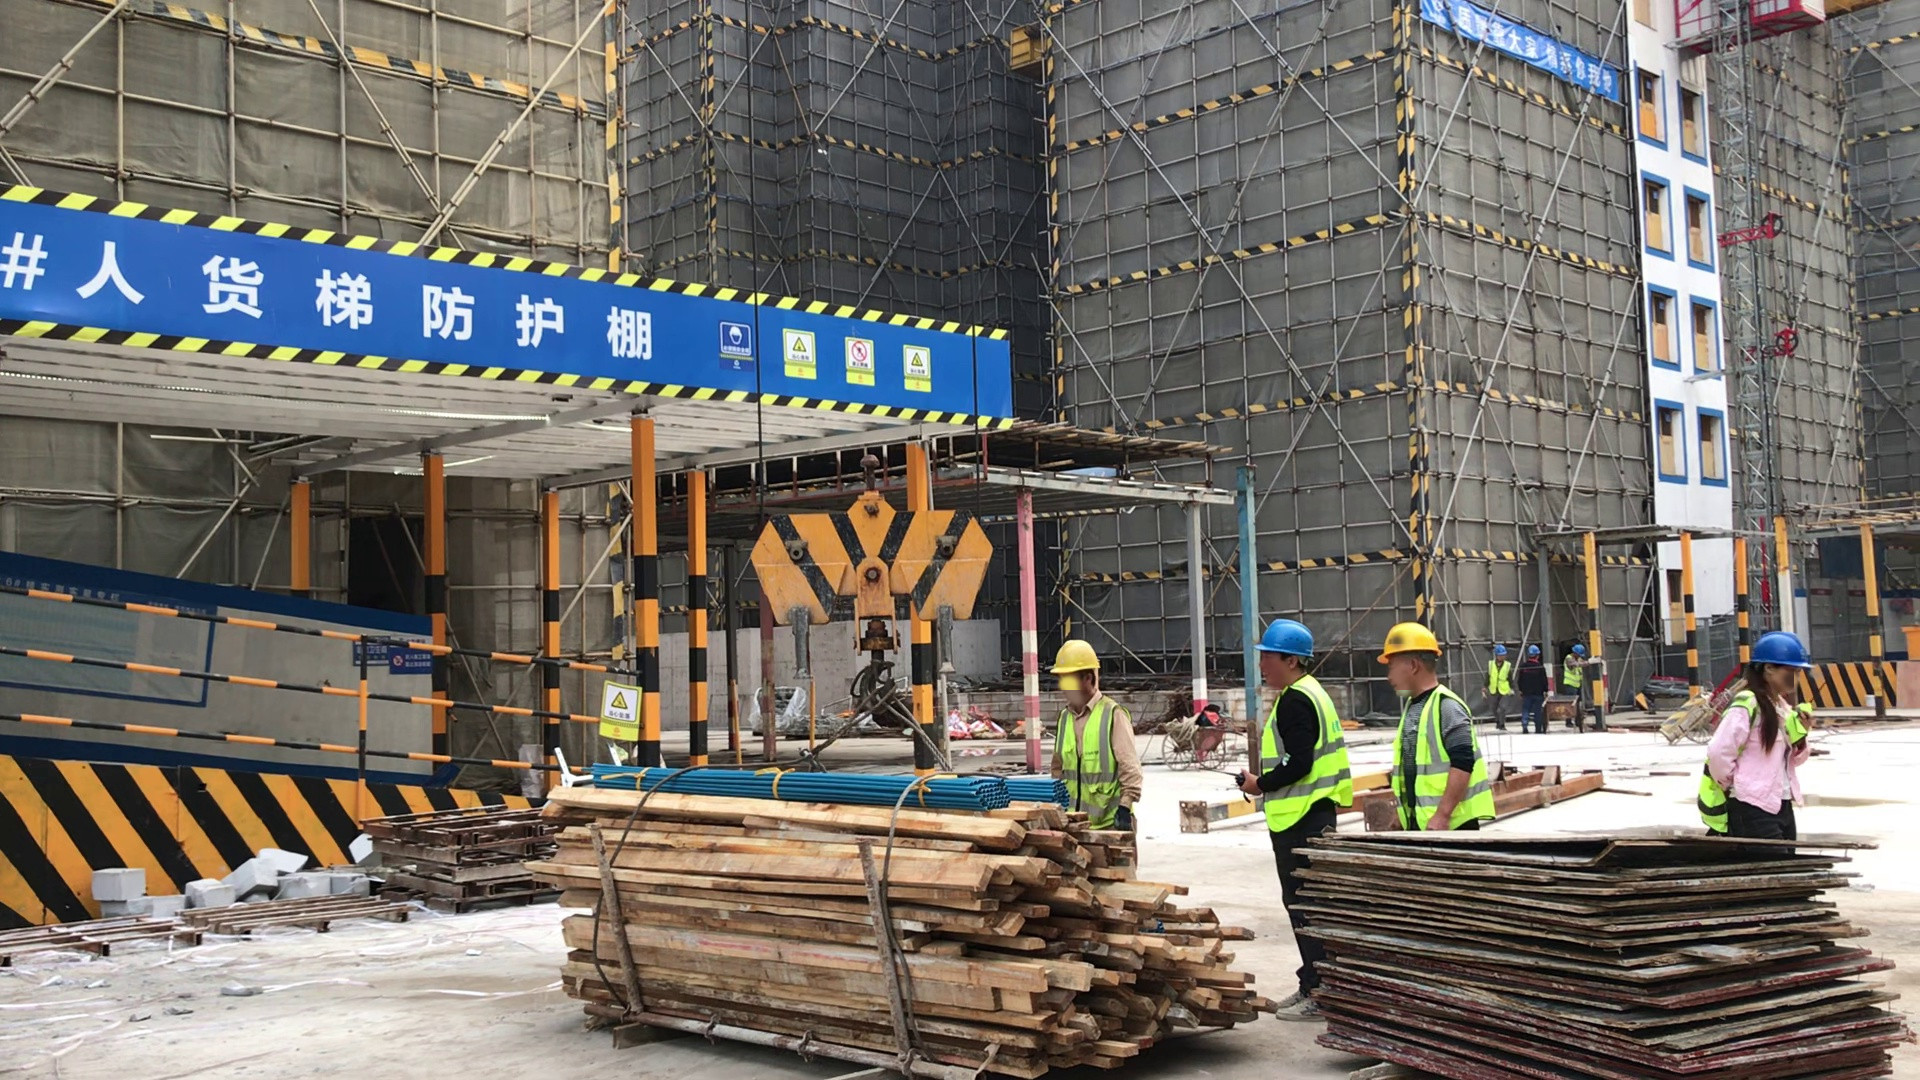board: (1304, 820, 1897, 1080)
handcart: (1663, 667, 1748, 745)
helmet: (1748, 628, 1810, 671), (1253, 619, 1315, 660), (1375, 622, 1444, 657), (1050, 640, 1101, 674), (1568, 644, 1585, 658), (1494, 644, 1506, 656), (1526, 645, 1539, 656)
hook: (751, 489, 994, 627)
person: (1238, 618, 1357, 1021), (1367, 617, 1501, 843), (1694, 630, 1817, 835), (1043, 632, 1147, 848), (1514, 644, 1550, 737), (1480, 641, 1513, 732), (1560, 644, 1589, 696)
slogan: (1423, 1, 1621, 100)
vest: (1257, 678, 1352, 828), (1392, 692, 1491, 832), (1053, 696, 1124, 827), (1488, 658, 1511, 696), (1562, 656, 1582, 686)
wood: (533, 785, 1262, 1080)
